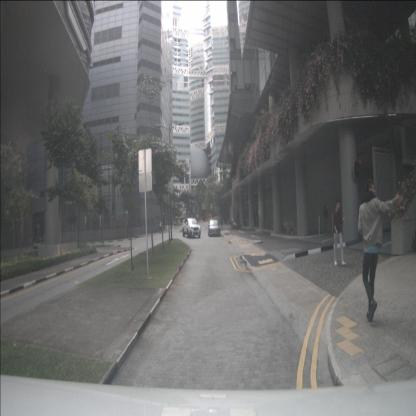human-pedestrian-adult: (358, 180, 401, 322), (332, 199, 346, 265), (323, 205, 328, 235), (220, 216, 223, 230), (159, 220, 162, 232)
vehicle-car: (182, 217, 200, 238), (207, 219, 221, 236), (232, 218, 242, 230)
